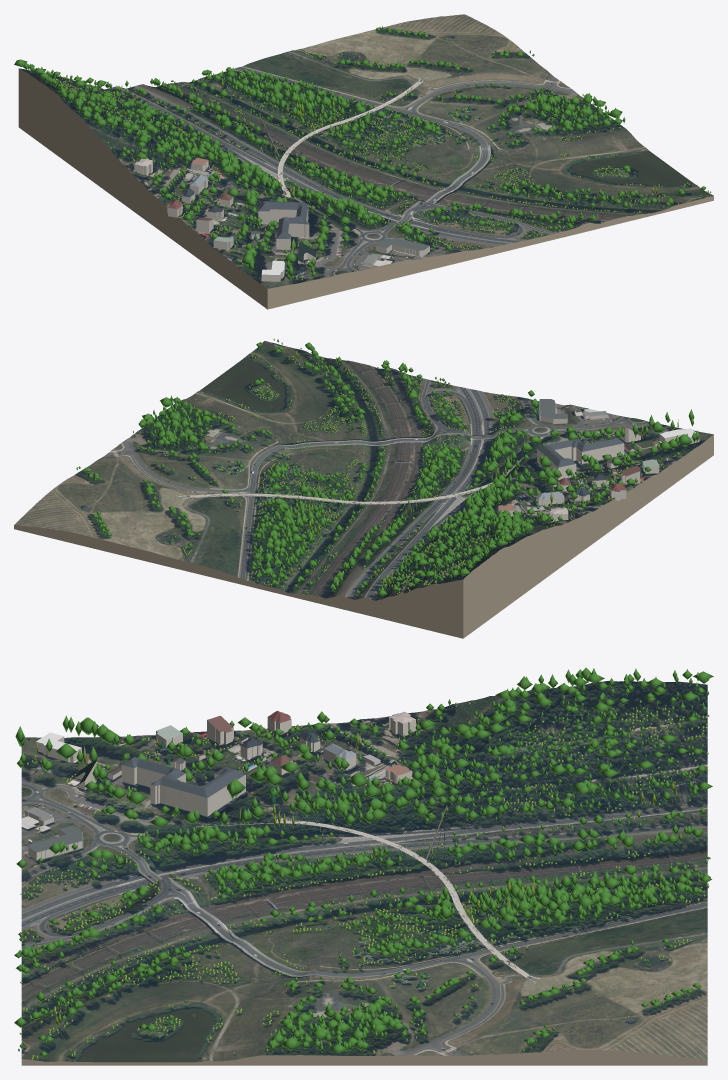
3 views of the same model, one above another, from view 1: azimuth 30°, elevation 25°; view 2: azimuth 150°, elevation 25°; view 3: azimuth 270°, elevation 25° (orthographic). The views are drawn at different scales.
Visible parts, largest first — view 1: terrain, trees, base, buildings, s1; view 2: terrain, trees, base, buildings, s1; view 3: terrain, trees, buildings, base, s1.
Boxes of the visible parts, left/top/right/bottom form: terrain: left=19, top=14, right=713, bottom=288; trees: left=14, top=26, right=711, bottom=280; base: left=18, top=69, right=713, bottom=309; buildings: left=134, top=158, right=429, bottom=281; s1: left=277, top=81, right=422, bottom=216; terrain: left=14, top=341, right=713, bottom=600; trees: left=76, top=338, right=699, bottom=596; base: left=14, top=434, right=713, bottom=638; buildings: left=498, top=399, right=699, bottom=521; s1: left=190, top=457, right=523, bottom=504; terrain: left=21, top=681, right=707, bottom=1062; trees: left=14, top=667, right=713, bottom=1060; buildings: left=25, top=710, right=415, bottom=860; base: left=21, top=1050, right=707, bottom=1065; s1: left=196, top=817, right=530, bottom=977.
Bounding box in the file's own units: 1.24 × 0.1854 × 1.18.
11 materials, 1 textured.
